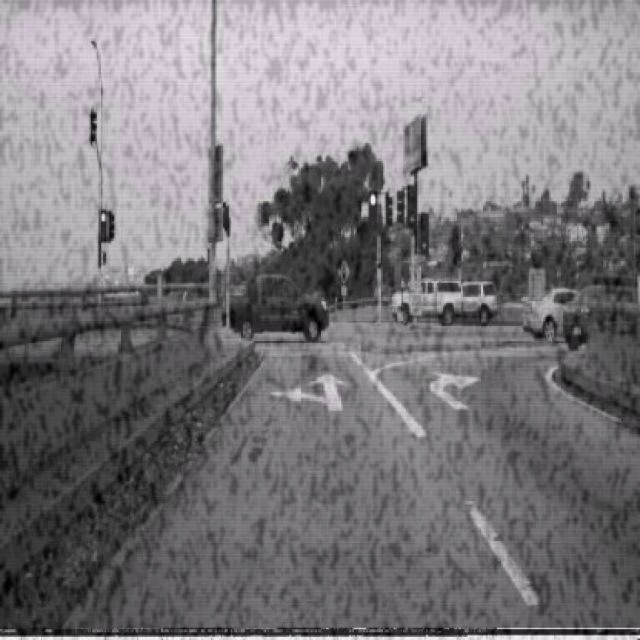signalAhead: (337, 257, 351, 284)
